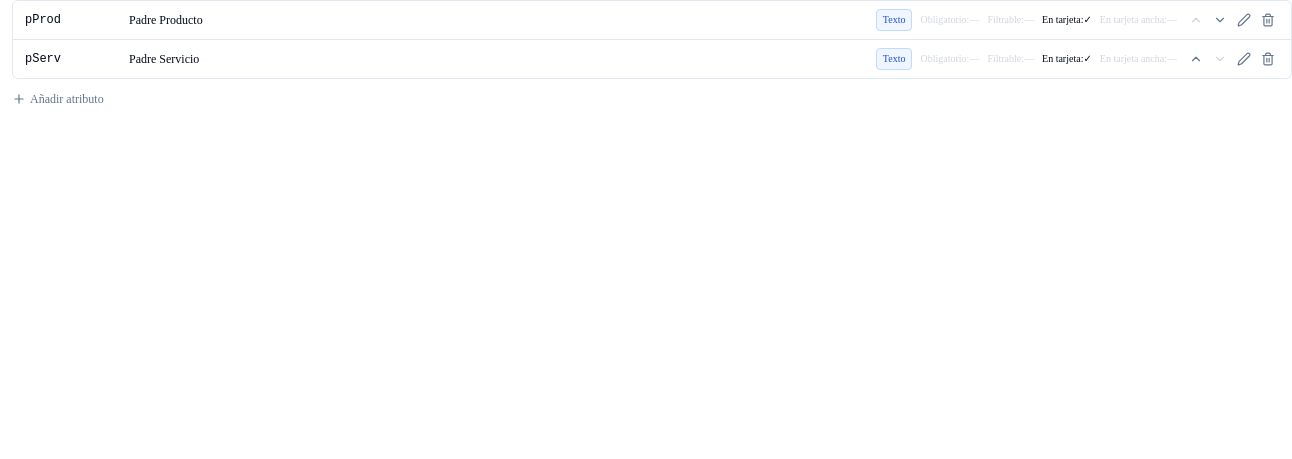
Scenario: AttributeSchemaEditor — impacto en subcategorías (contador, editando el PADRE) › el impacto se recalcula EN VIVO al marcar cardAttribute en el nuevo atributo del padre (antes de guardar)
The image size is (1292, 459).
Click the button with test id "add-attribute-btn" at coordinates (58, 99), box left=12, top=91, right=104, bottom=107
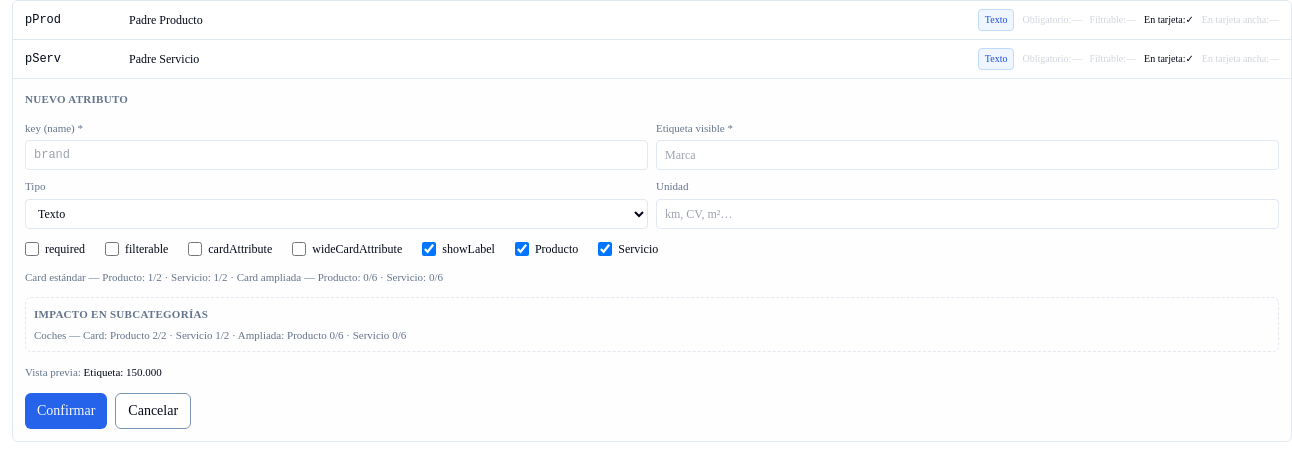
// Nuevo atributo del padre, solo SERVICIO, marcado cardAttribute.
Click the checkbox with test id "applies-to-product-checkbox" at coordinates (522, 248), box left=515, top=242, right=529, bottom=256
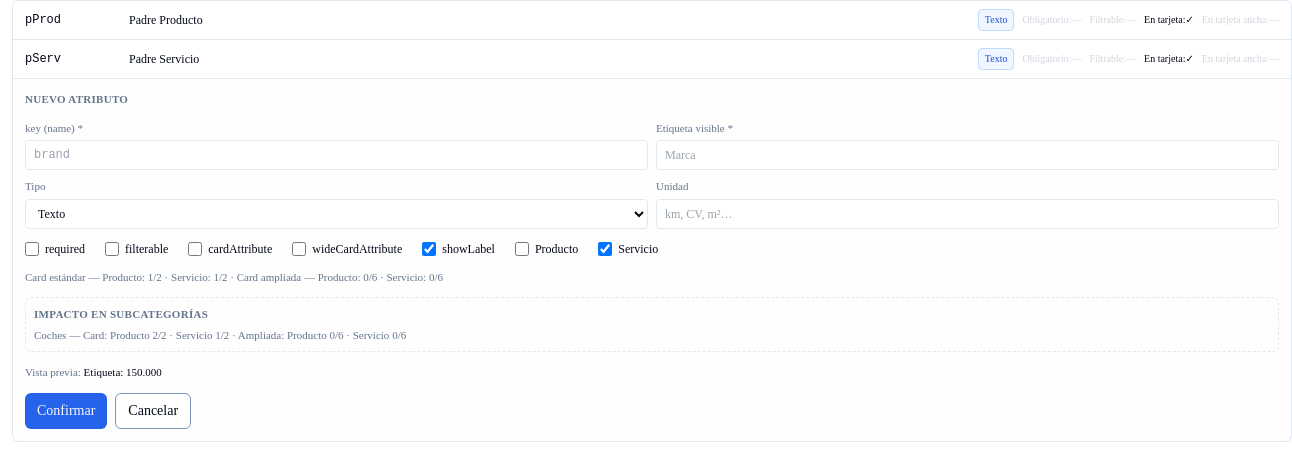
Type "pServ2" into the field with test id "attr-name-input" at coordinates (336, 155), box left=25, top=140, right=648, bottom=170
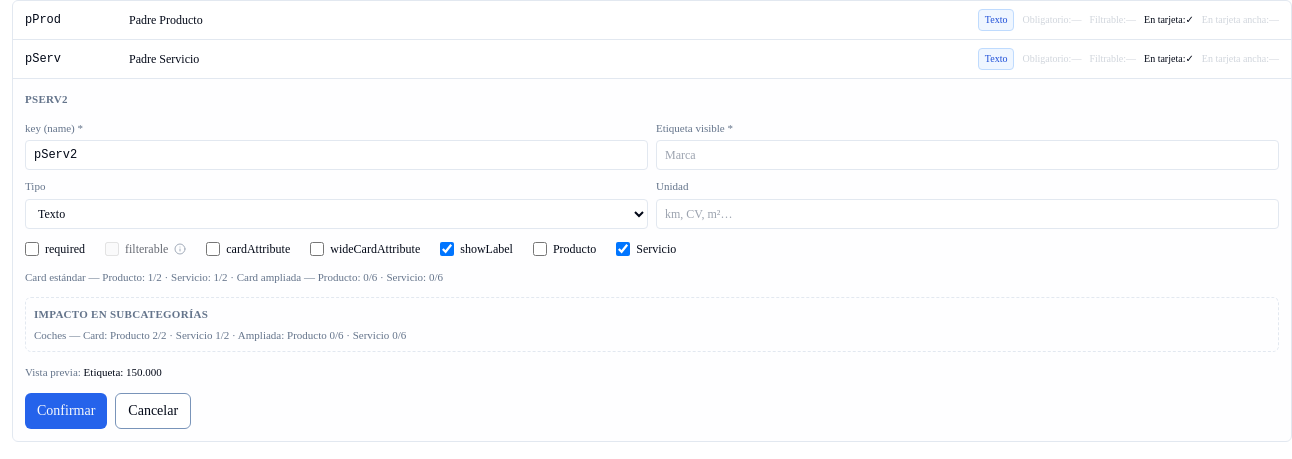
Type "Padre Servicio 2" into the field with test id "attr-label-input" at coordinates (968, 155), box left=656, top=140, right=1279, bottom=170
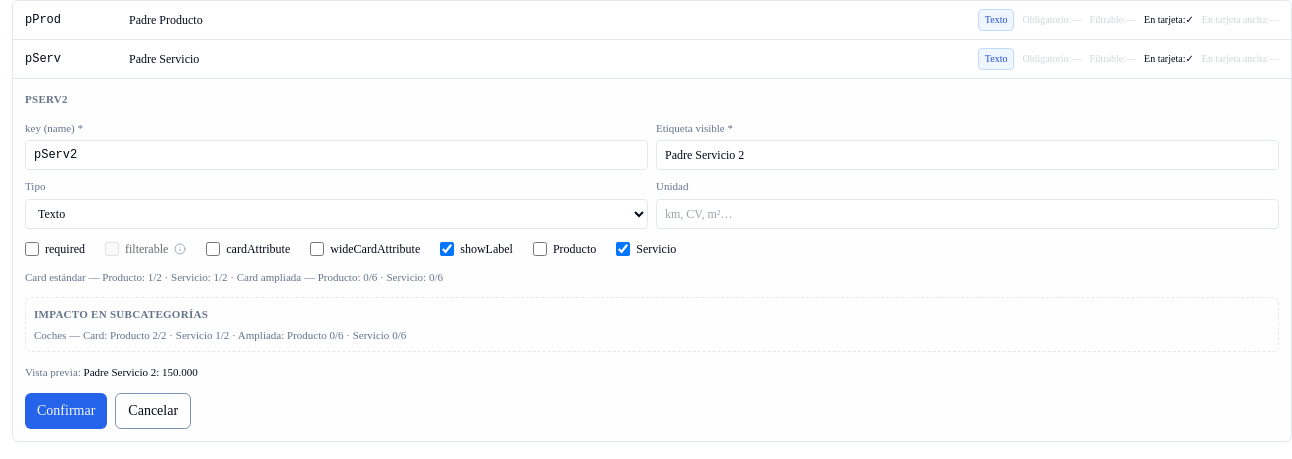
Click the checkbox with test id "card-attribute-checkbox" at coordinates (213, 248), box left=206, top=242, right=220, bottom=256
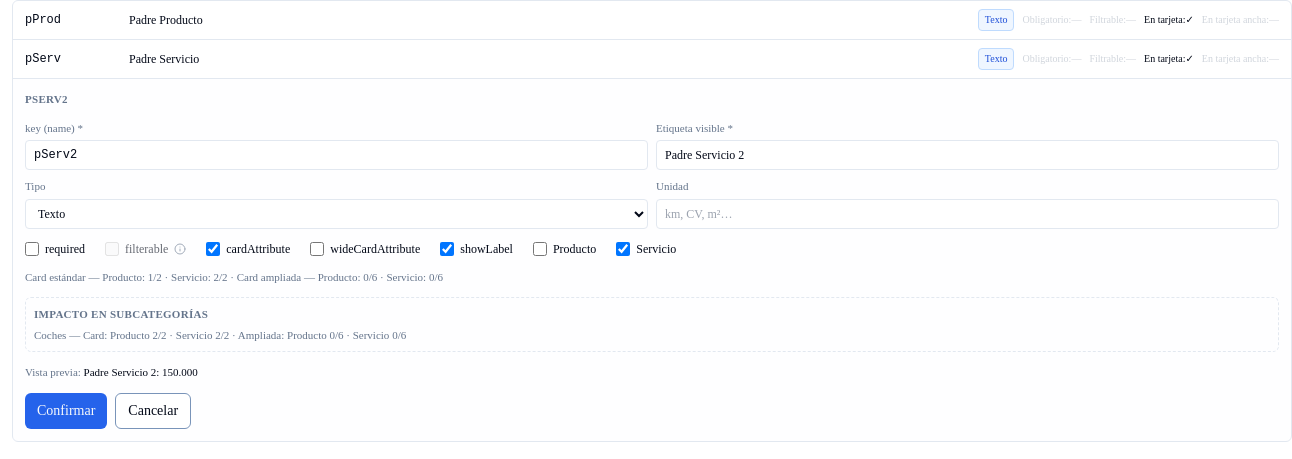
expect the text with test id "child-impact-Coches" shows "Producto 2/2": met, box left=34, top=328, right=406, bottom=340
expect the text with test id "child-impact-Coches" shows "Servicio 2/2": met, box left=34, top=328, right=406, bottom=340
